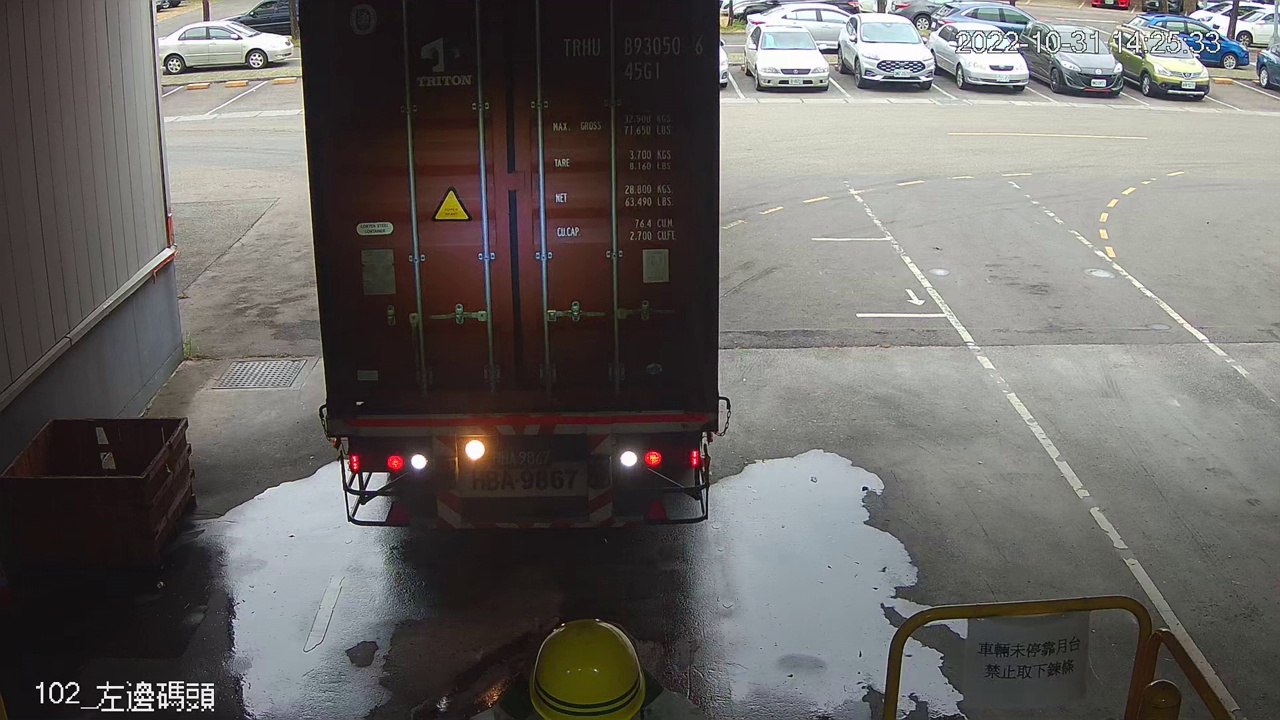container: (556, 28, 707, 85)
